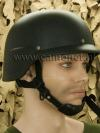helmet: (10, 12, 94, 60)
